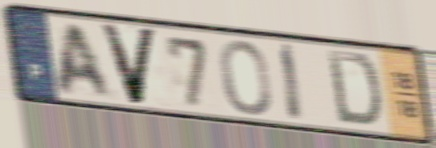7: (163, 34, 211, 108)
A: (56, 21, 114, 100)
D: (324, 47, 383, 130)
I: (278, 40, 306, 126)
O: (217, 38, 274, 118)
V: (97, 20, 161, 107)
